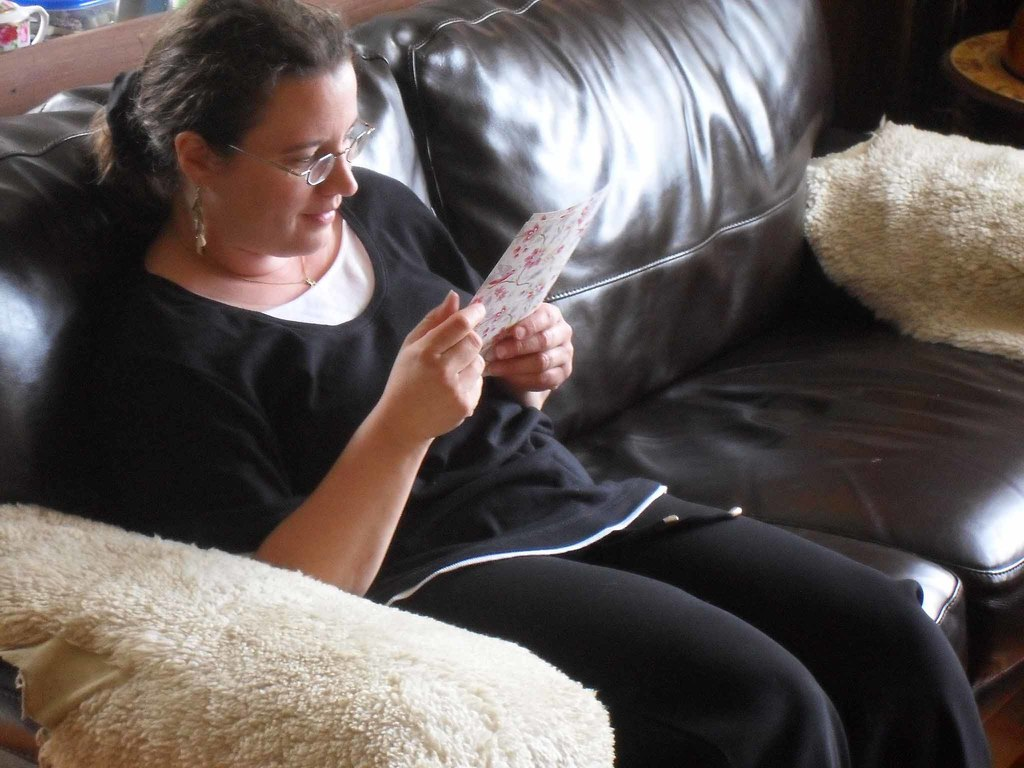Couch: (5, 15, 1024, 768)
